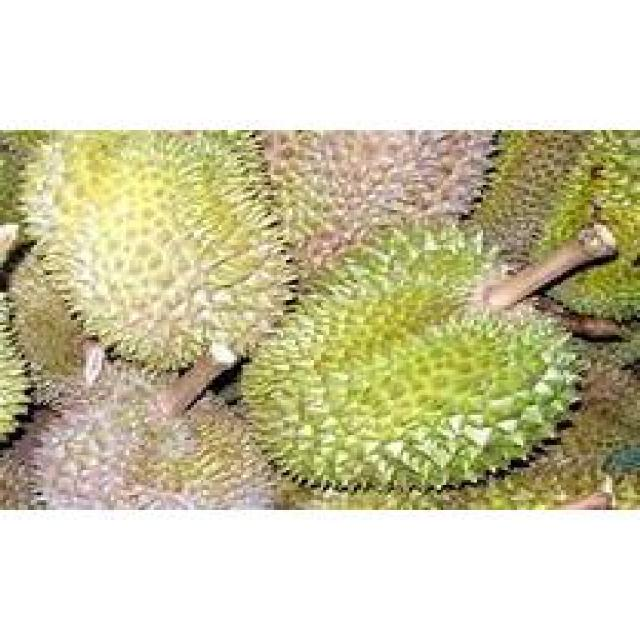fruit: (228, 132, 532, 510), (6, 125, 308, 407), (458, 130, 637, 302)
